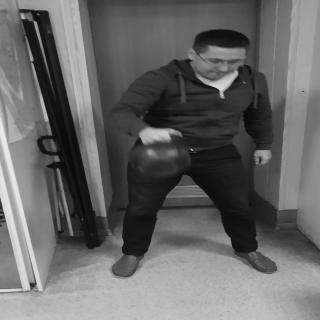girya: (129, 135, 192, 177)
